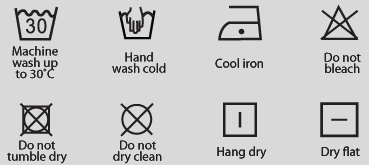do_not_bleach: (319, 5, 360, 41)
do_not_dry_clean: (119, 101, 155, 137)
